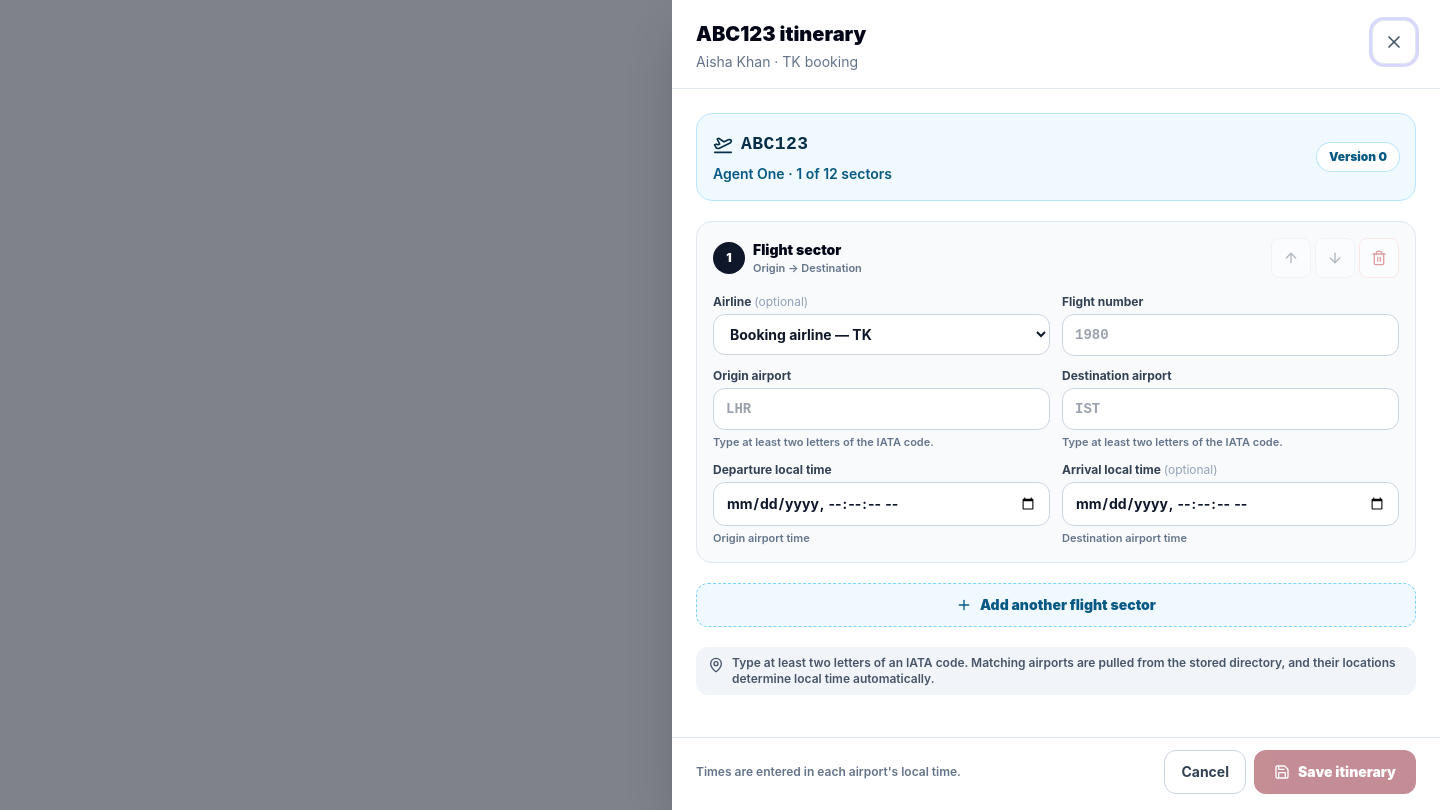
Test: TicketItineraryDrawer › searches the stored directory by IATA code instead of loading the first alphabetic page
The width and height of the screenshot is (1440, 810).
Expected: the heading "ABC123 itinerary" is shown, [696,20,866,48]
Type "lhr" into the field named "Flight sector 1 origin airport" at x=882, y=409, box [713,388,1050,430]
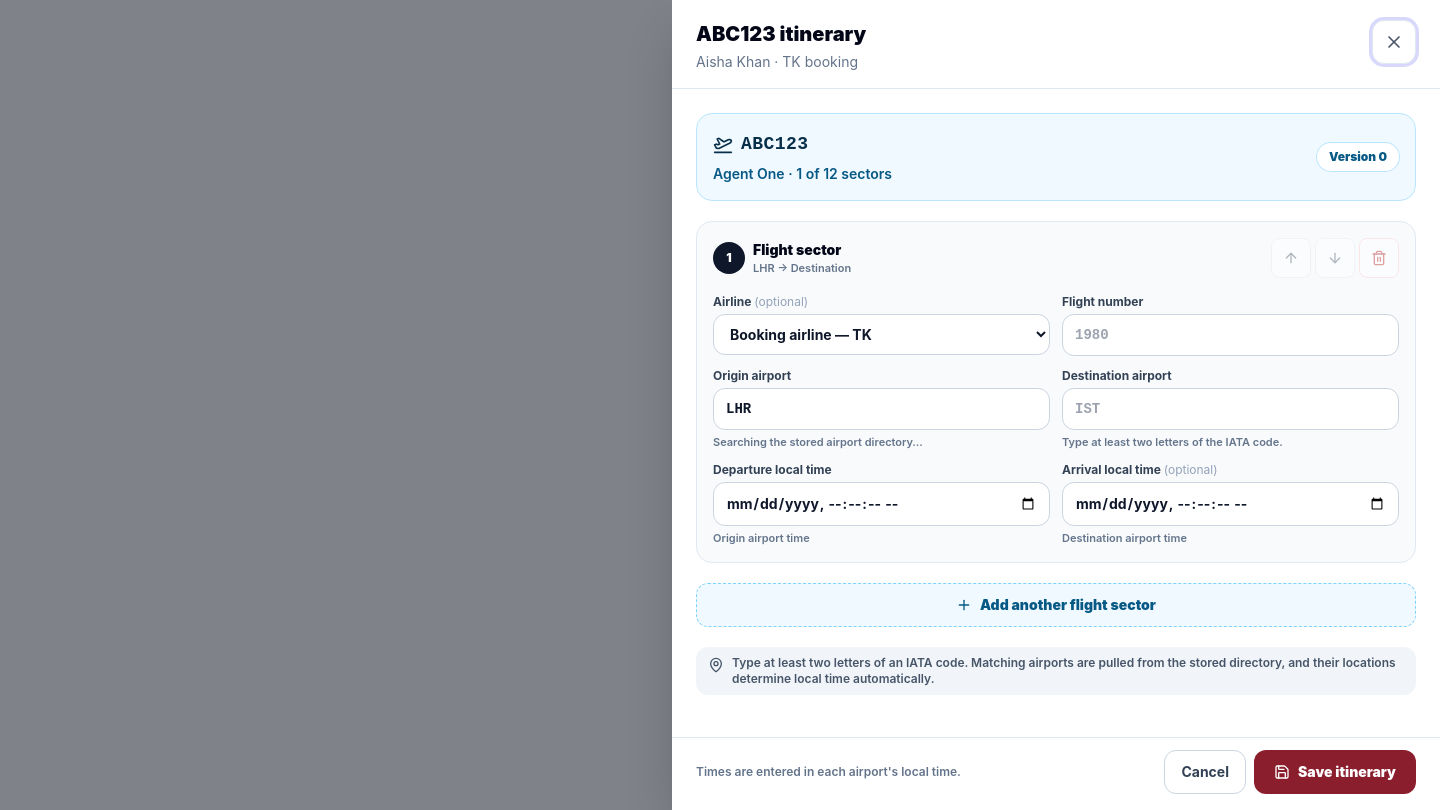
Type "isb" into the field named "Flight sector 1 destination airport" at x=1230, y=409, box [1062,388,1399,430]
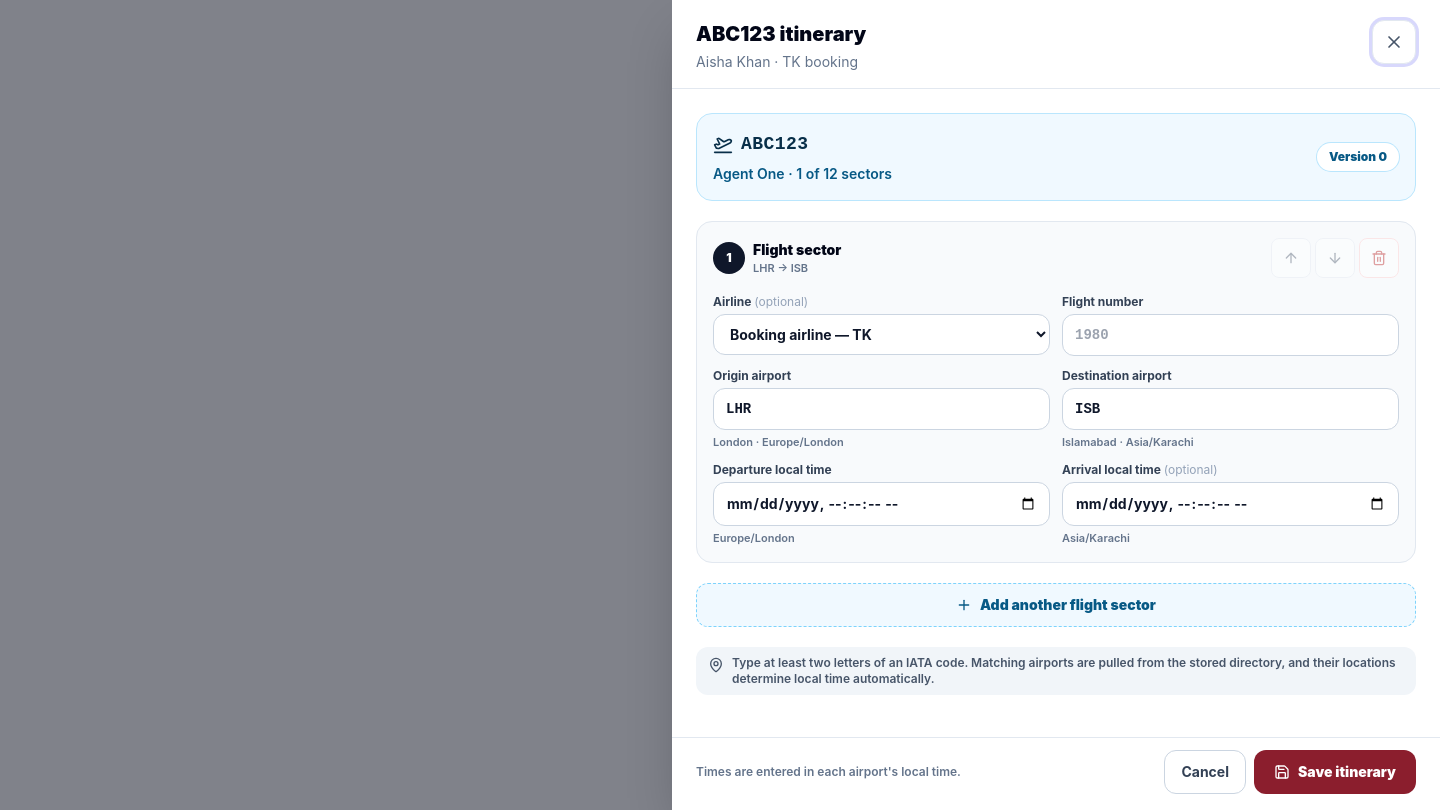
Expected: the text "London · Europe/London" is shown, [713,435,844,449]
Expected: the text "Islamabad · Asia/Karachi" is shown, [1062,435,1194,449]
